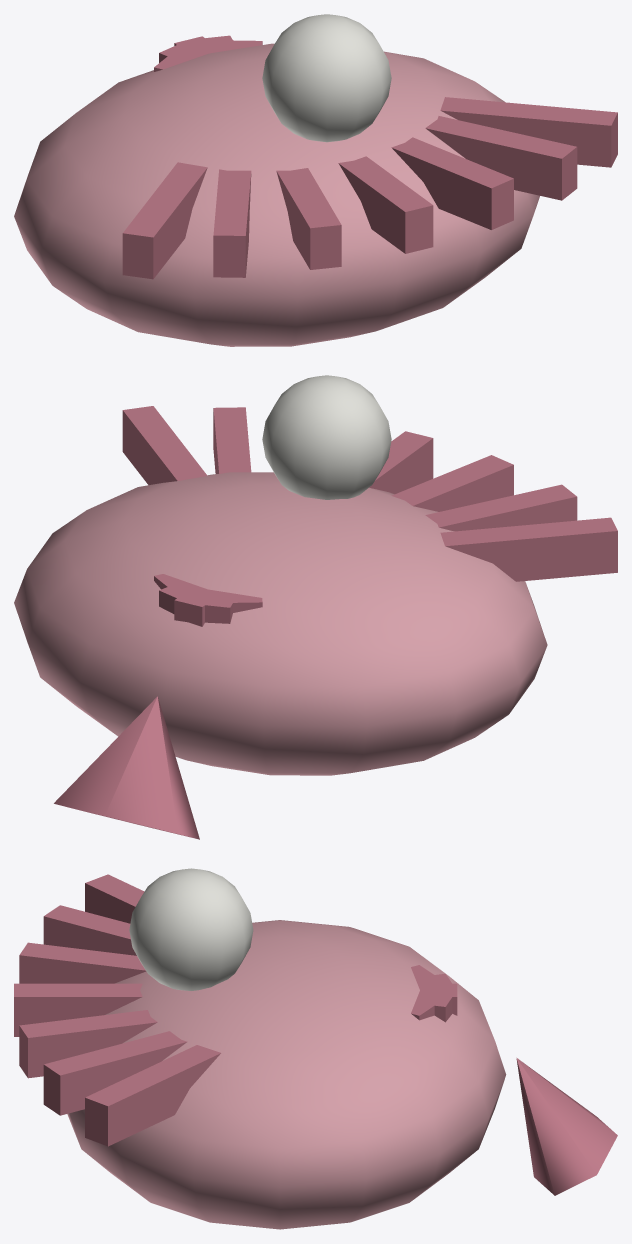
File: shell.glb
3 renders of one model, top to bottom at view 1: azimuth 30°, elevation 25°; view 2: azimuth 150°, elevation 25°; view 3: azimuth 270°, elevation 25°, orthographic. The views are drawn at different scales.
Parts seen in each view (by area): view 1: shell; view 2: shell; view 3: shell.
Boxes of the visible parts, box(x1,y1,x2,y2) form: shell: box(14, 14, 617, 346); shell: box(14, 375, 617, 839); shell: box(14, 868, 617, 1229).
Size of the model in its own units: 0.6191 by 0.385 by 0.6809.
